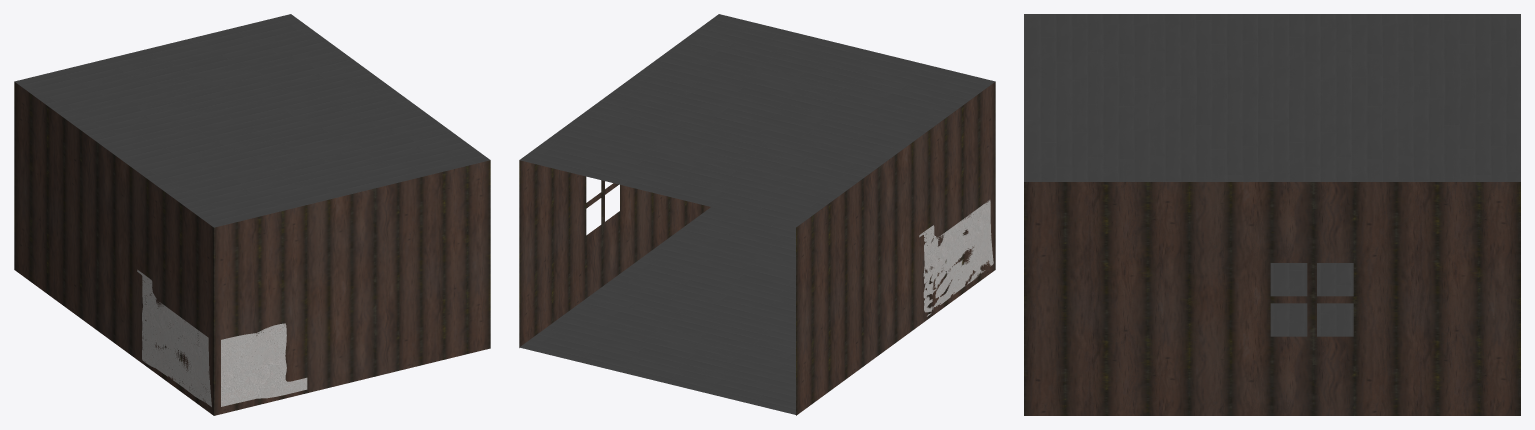
The model's file is RussianStove.fbx.
The picture shows the model from 3 angles, left to right: view 1: azimuth 30°, elevation 25°; view 2: azimuth 150°, elevation 25°; view 3: azimuth 270°, elevation 25°; orthographic projection. The views are drawn at different scales.
Visible parts, largest first — view 1: Потолок, Стена-задняя, Стена-правая, Печь; view 2: Потолок, Пол, Стена-правая, Стена-левая, Печь; view 3: Стена-левая, Потолок, Пол.
Part boxes in pixels (<box>): Потолок: <box>14,14,490,227</box>; Стена-задняя: <box>214,160,490,415</box>; Стена-правая: <box>14,82,213,415</box>; Печь: <box>137,269,307,406</box>; Потолок: <box>519,14,995,227</box>; Пол: <box>519,207,795,414</box>; Стена-правая: <box>796,82,995,415</box>; Стена-левая: <box>519,160,710,347</box>; Печь: <box>919,200,993,316</box>; Стена-левая: <box>1024,182,1520,415</box>; Потолок: <box>1024,14,1520,181</box>; Пол: <box>1270,263,1353,336</box>.
Size of the model in its own units: 600 by 390 by 750.
